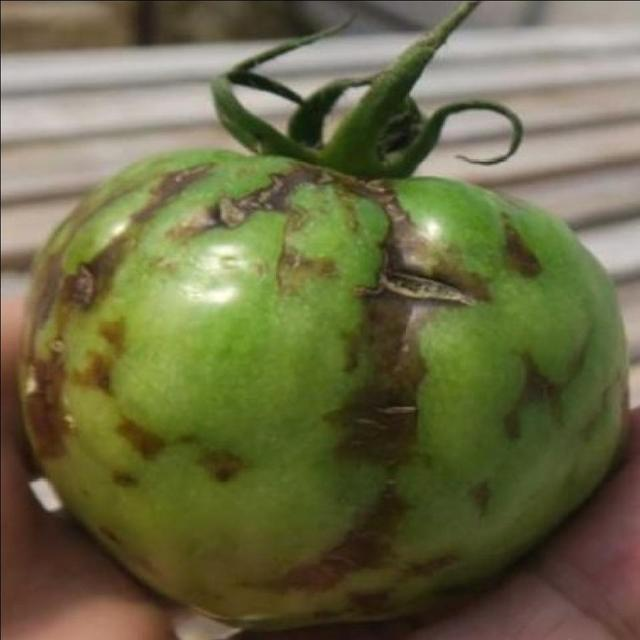Spotted wilt Virus Fruit: (43, 216, 331, 626)
